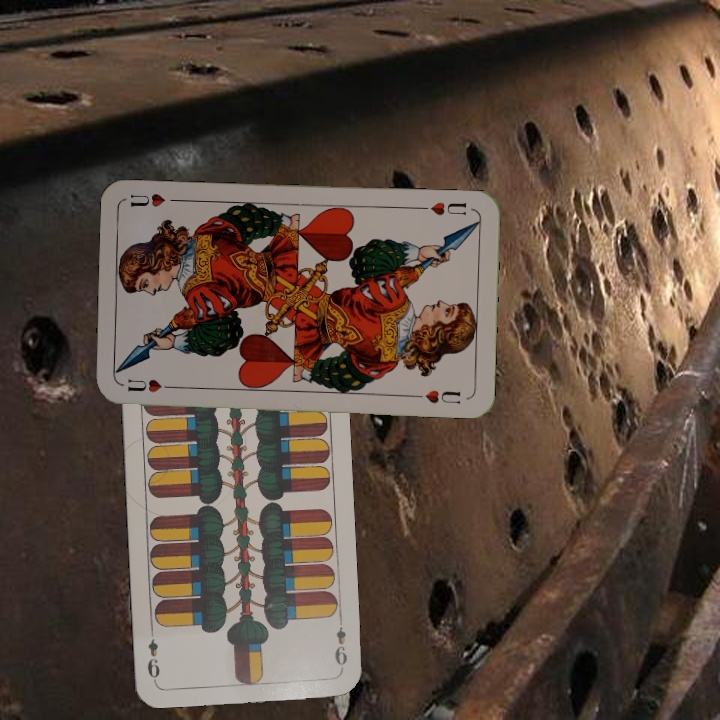E9: (331, 614, 350, 673)
HU: (123, 375, 179, 395), (415, 198, 469, 218)
